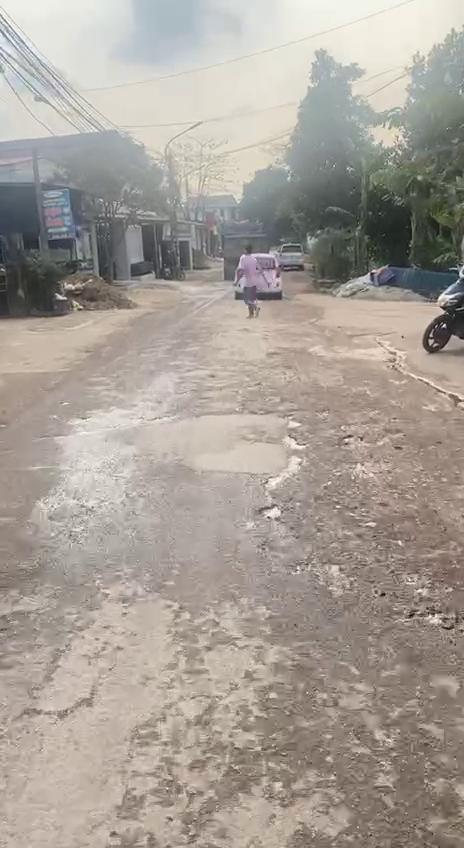pothole: (256, 417, 309, 534), (395, 559, 464, 640), (336, 423, 406, 455)
